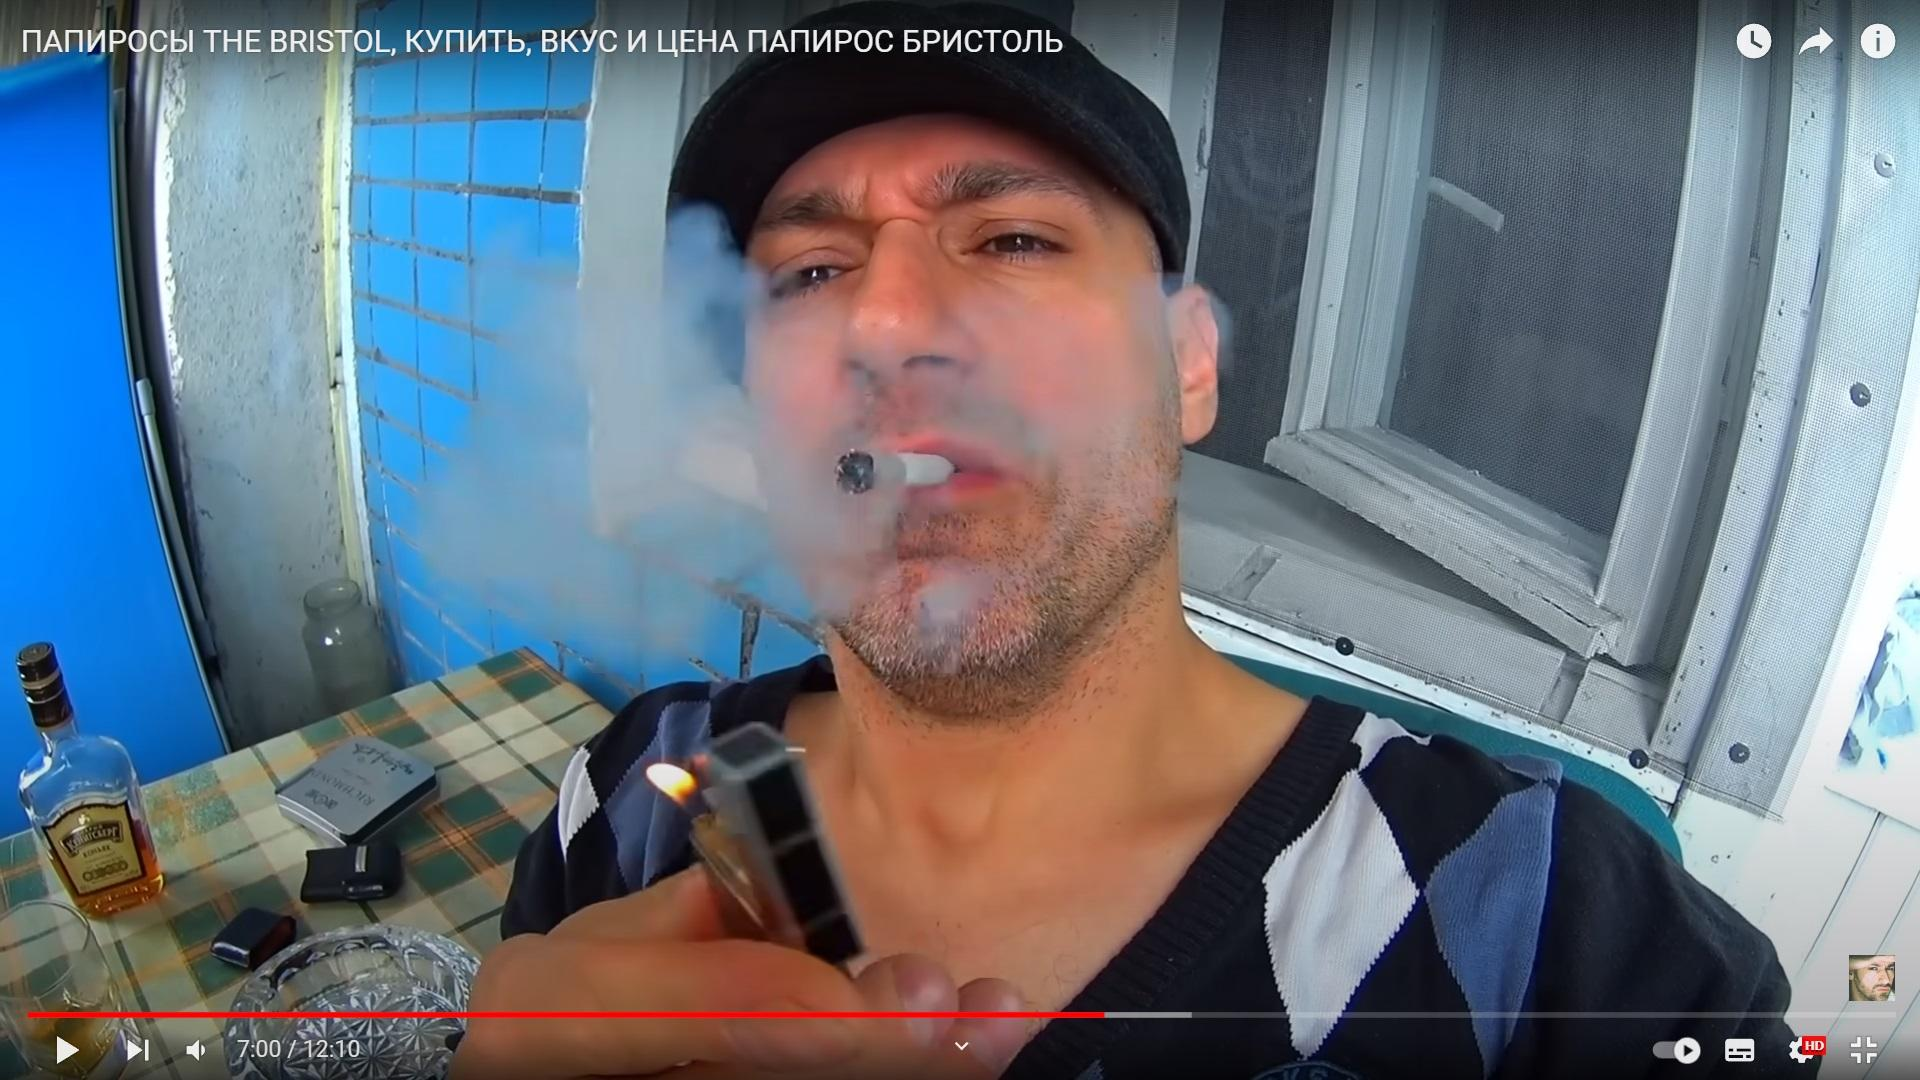cigarette: (835, 451, 956, 497)
